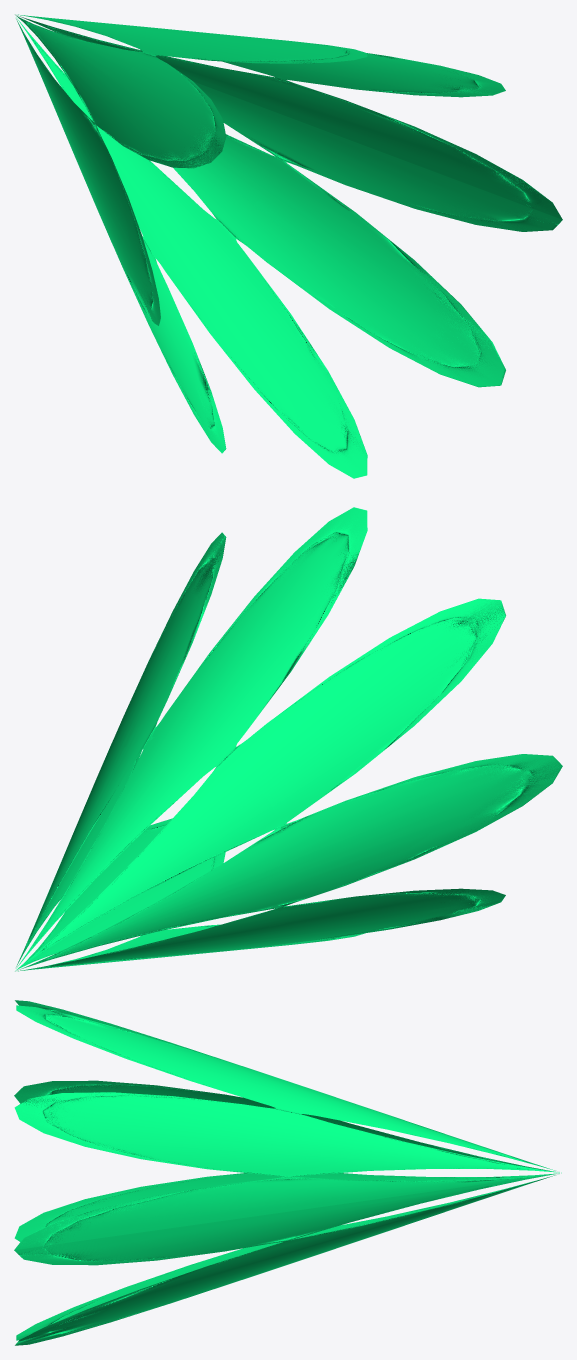
Rendered from phi_minus_pi_sketchfab_animated_1764239698882.glb.
3 renders of one model, top to bottom at view 1: azimuth 30°, elevation 25°; view 2: azimuth 150°, elevation 25°; view 3: azimuth 270°, elevation 25°, orthographic. The views are drawn at different scales.
Parts seen in each view (by area): view 1: MathShape; view 2: MathShape; view 3: MathShape.
Boxes of the visible parts, bbox=[...] form: MathShape: bbox=[15, 14, 562, 478]; MathShape: bbox=[15, 507, 562, 971]; MathShape: bbox=[14, 1000, 561, 1345].
Size of the model in its own units: 36.56 by 36.38 by 54.84.
